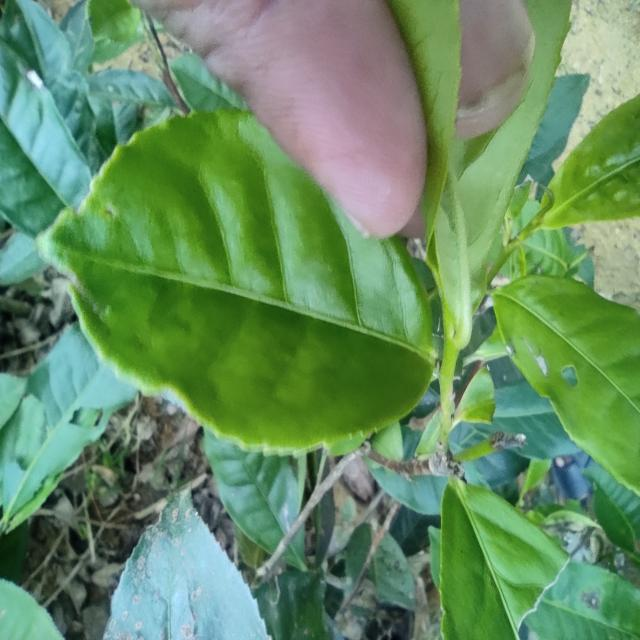Category C(4-7 days): (10, 83, 450, 478)
